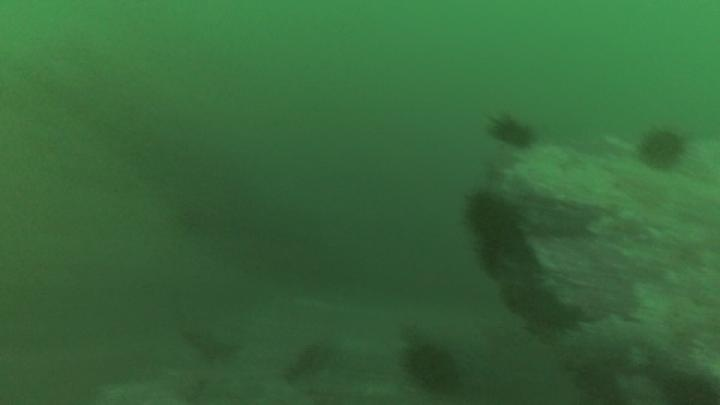echinus: (400, 337, 465, 398), (462, 187, 523, 242), (635, 124, 688, 173), (486, 110, 539, 151)
starfish: (180, 320, 242, 363)
